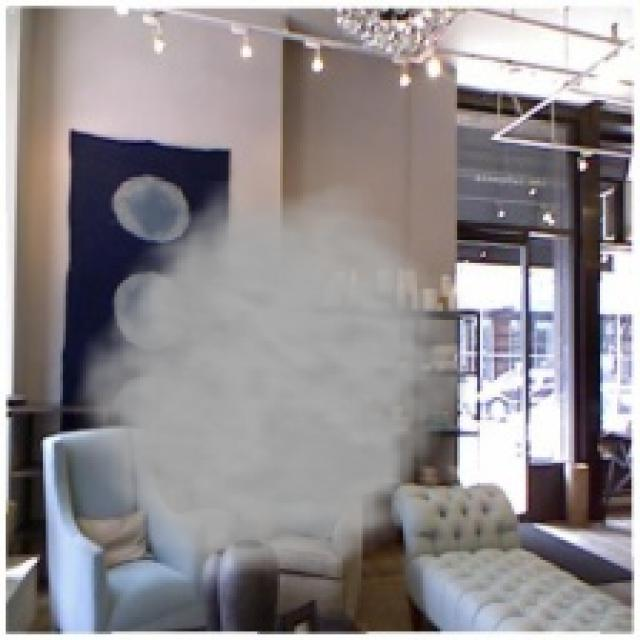smoke: (63, 180, 488, 600)
